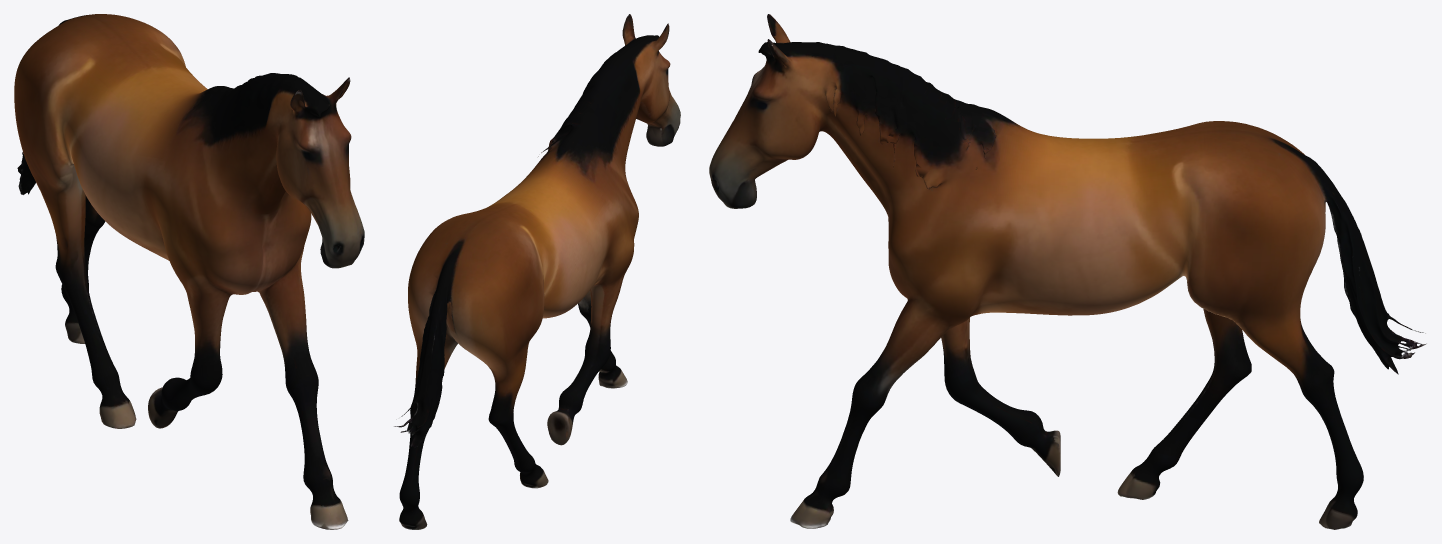
File: horse_walking.glb
3 views of the same model, side by side, from view 1: azimuth 30°, elevation 25°; view 2: azimuth 150°, elevation 25°; view 3: azimuth 270°, elevation 25° (orthographic). The views are drawn at different scales.
Parts seen in each view (by area): view 1: model; view 2: model; view 3: model.
Boxes of the visible parts, bbox=[...] form: model: bbox=[14, 14, 364, 529]; model: bbox=[394, 14, 680, 529]; model: bbox=[709, 14, 1426, 529].
Size of the model in its own units: 0.4574 by 1.4 by 1.89.
1 material, 1 textured.
